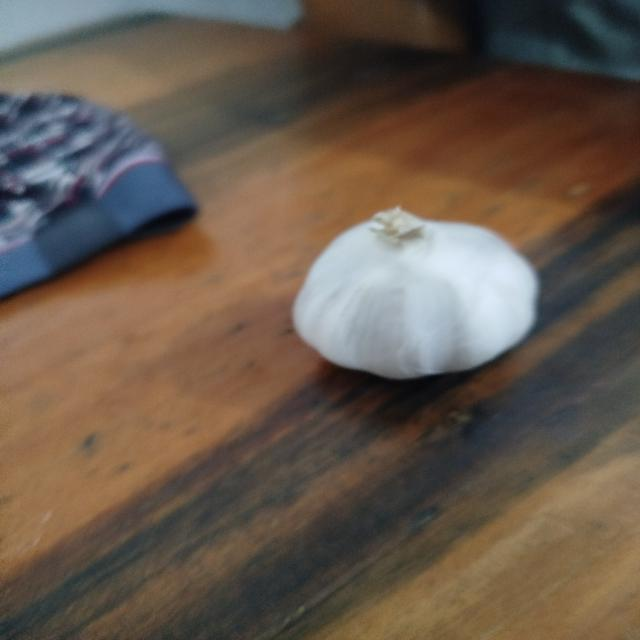garlic: (291, 205, 539, 381)
